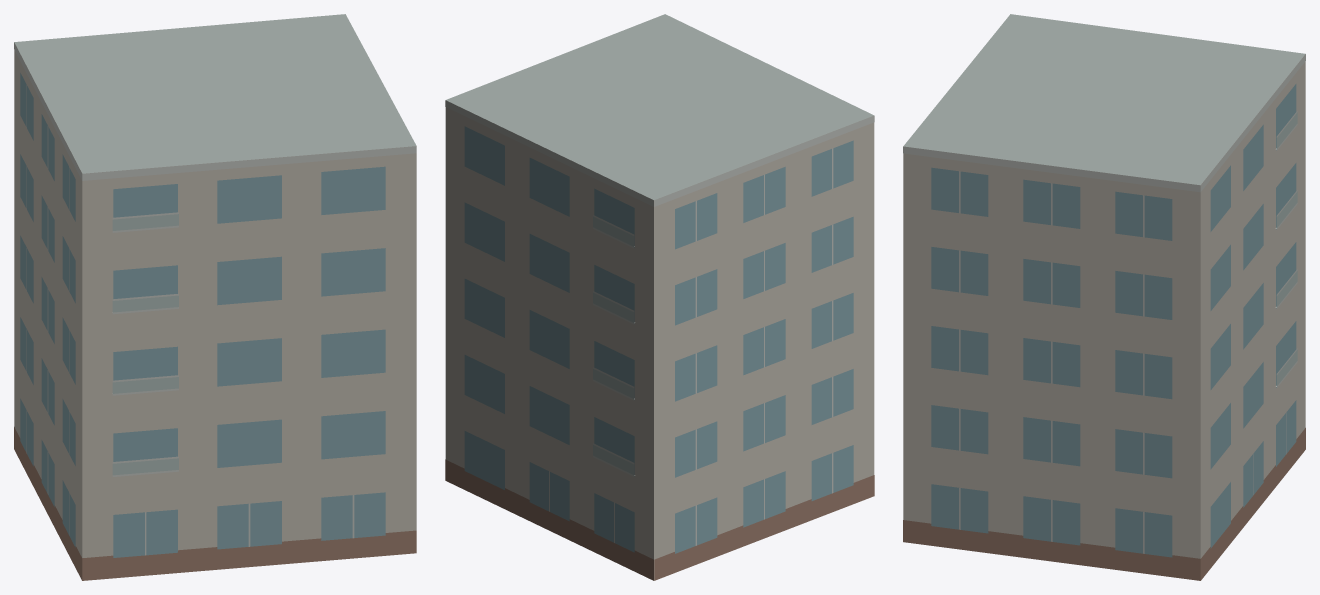
File: survey-upis-32537456.glb
3 renders of one model, left to right at view 1: azimuth 30°, elevation 25°; view 2: azimuth 150°, elevation 25°; view 3: azimuth 270°, elevation 25°, orthographic. The views are drawn at different scales.
Parts seen in each view (by area): view 1: survey-upis-32537456.tmp; view 2: survey-upis-32537456.tmp; view 3: survey-upis-32537456.tmp.
Part boxes in pixels (x1,y1,x2,y2): survey-upis-32537456.tmp: (14, 14, 416, 580); survey-upis-32537456.tmp: (445, 14, 874, 580); survey-upis-32537456.tmp: (903, 14, 1305, 580).
Bounding box in the file's own units: 12.77 × 13.75 × 12.69.
